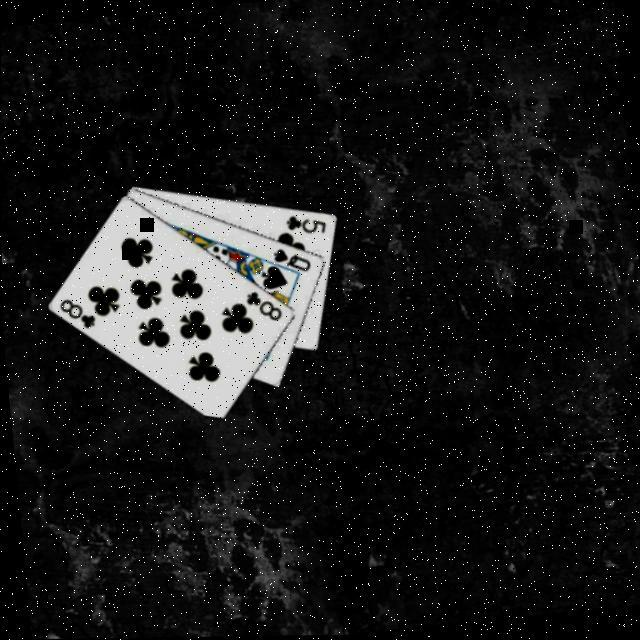5C: (285, 211, 331, 242)
8C: (58, 294, 100, 336), (244, 288, 288, 328)
QS: (271, 244, 315, 280)
